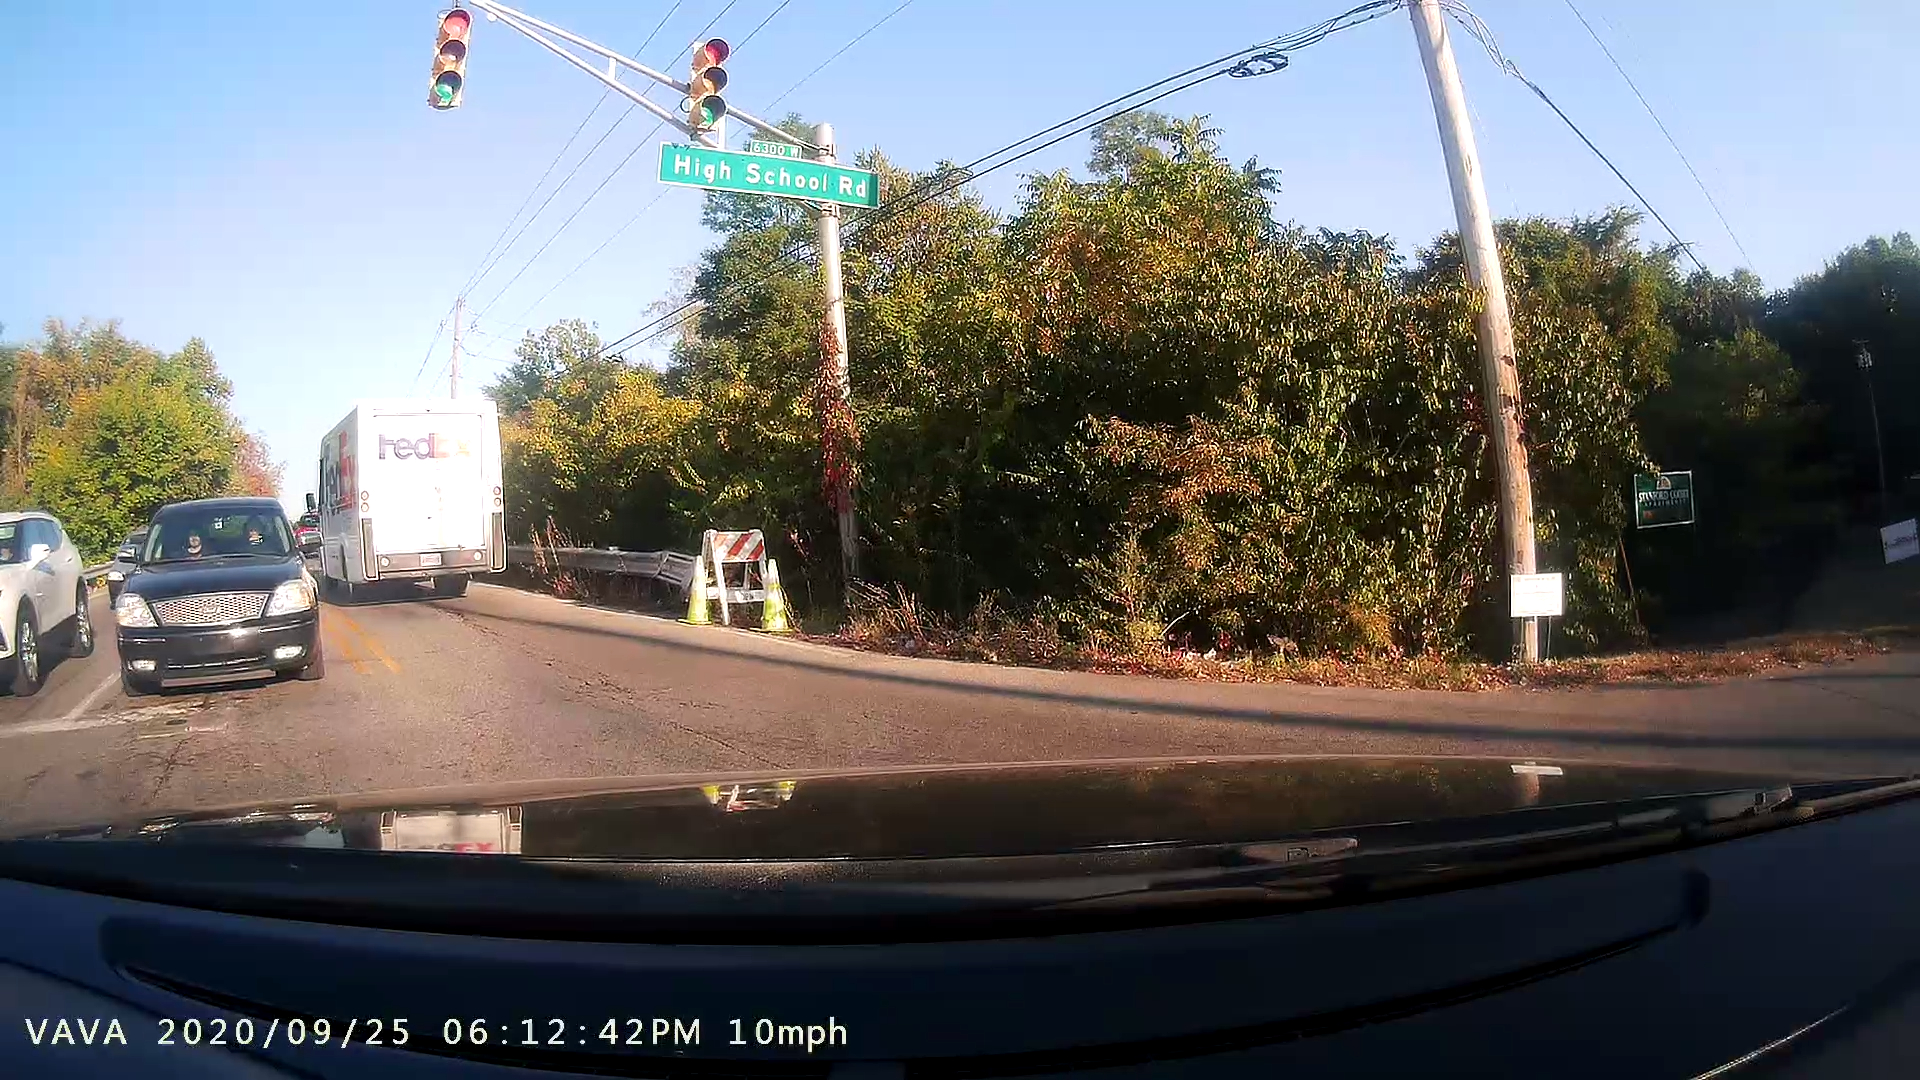const_cone: (659, 535, 720, 636), (749, 553, 806, 641)
